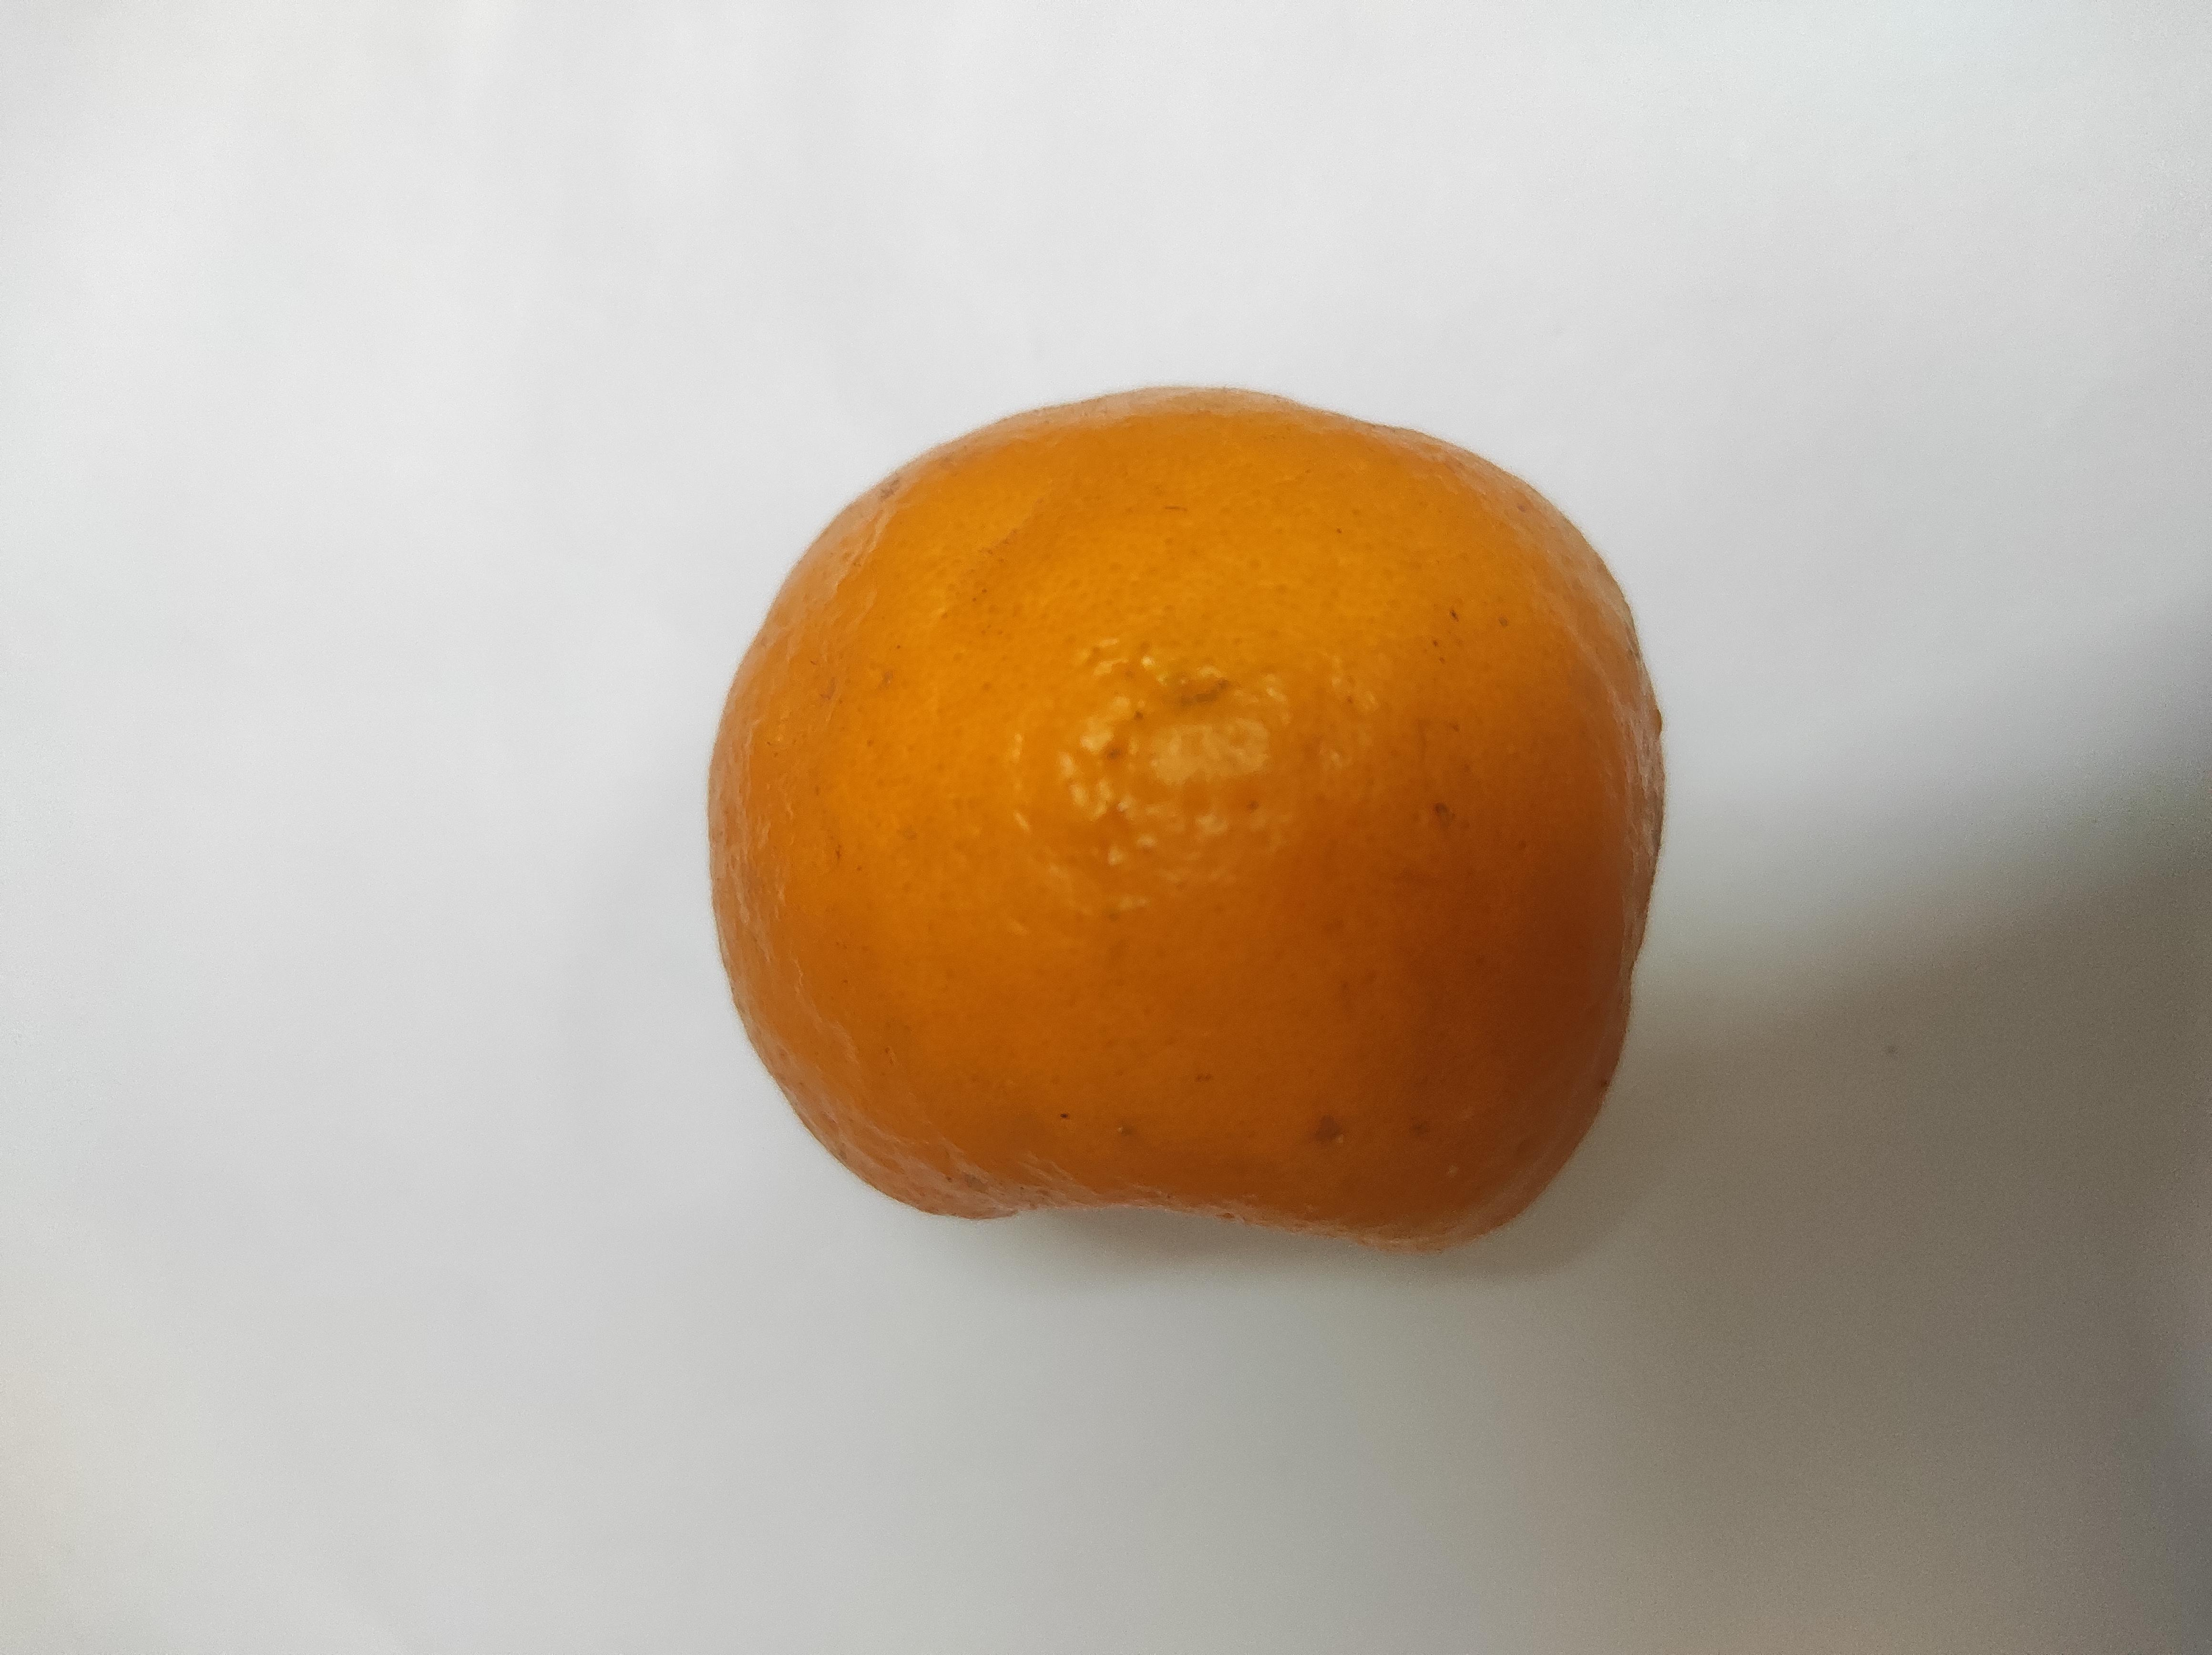Ripe: (720, 396, 1650, 1267)
